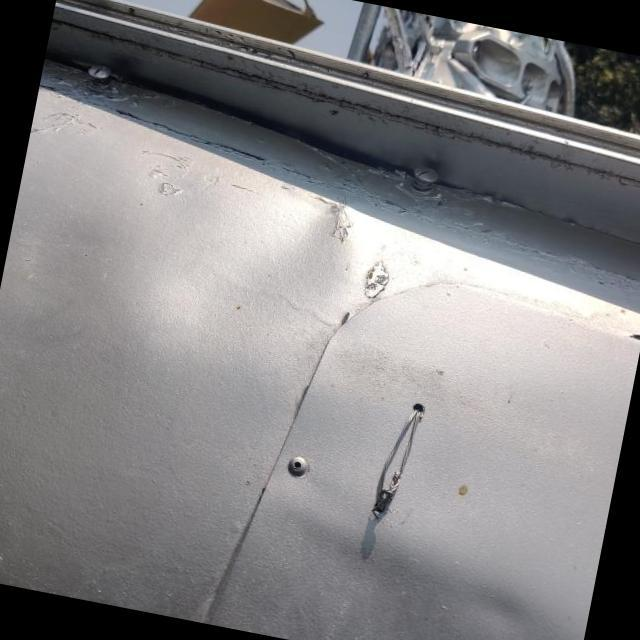Dent: (132, 125, 398, 398)
